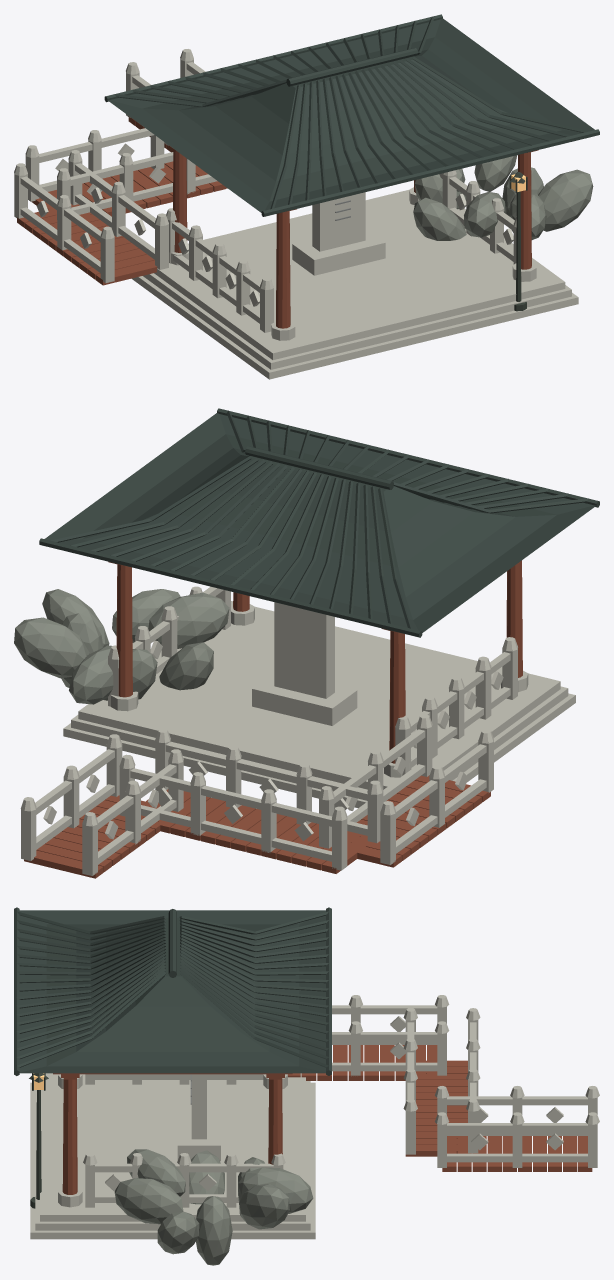
Rendered from quyuan.glb.
The picture shows the model from 3 angles, top to bottom: view 1: azimuth 30°, elevation 25°; view 2: azimuth 150°, elevation 25°; view 3: azimuth 270°, elevation 25°; orthographic projection. The views are drawn at different scales.
Parts seen in each view (by area): view 1: Limestone, Dark_Tile, Lacquered_Wood, Garden_Stone, Patinated_Iron; view 2: Limestone, Dark_Tile, Lacquered_Wood, Garden_Stone; view 3: Dark_Tile, Limestone, Lacquered_Wood, Garden_Stone, Patinated_Iron.
Part boxes in pixels (x1,y1,x2,y2): Limestone: (14, 49, 578, 379); Dark_Tile: (104, 14, 599, 216); Lacquered_Wood: (17, 116, 538, 328); Garden_Stone: (413, 155, 593, 240); Patinated_Iron: (509, 172, 527, 311); Limestone: (20, 586, 575, 875); Dark_Tile: (39, 408, 599, 637); Lacquered_Wood: (24, 560, 522, 878); Garden_Stone: (14, 589, 229, 704); Dark_Tile: (14, 907, 331, 1075); Limestone: (30, 995, 599, 1239); Lacquered_Wood: (53, 1045, 592, 1194); Garden_Stone: (114, 1149, 313, 1265); Patinated_Iron: (29, 1073, 48, 1208).
Size of the model in its own units: 9.46 by 4.77 by 10.89.
